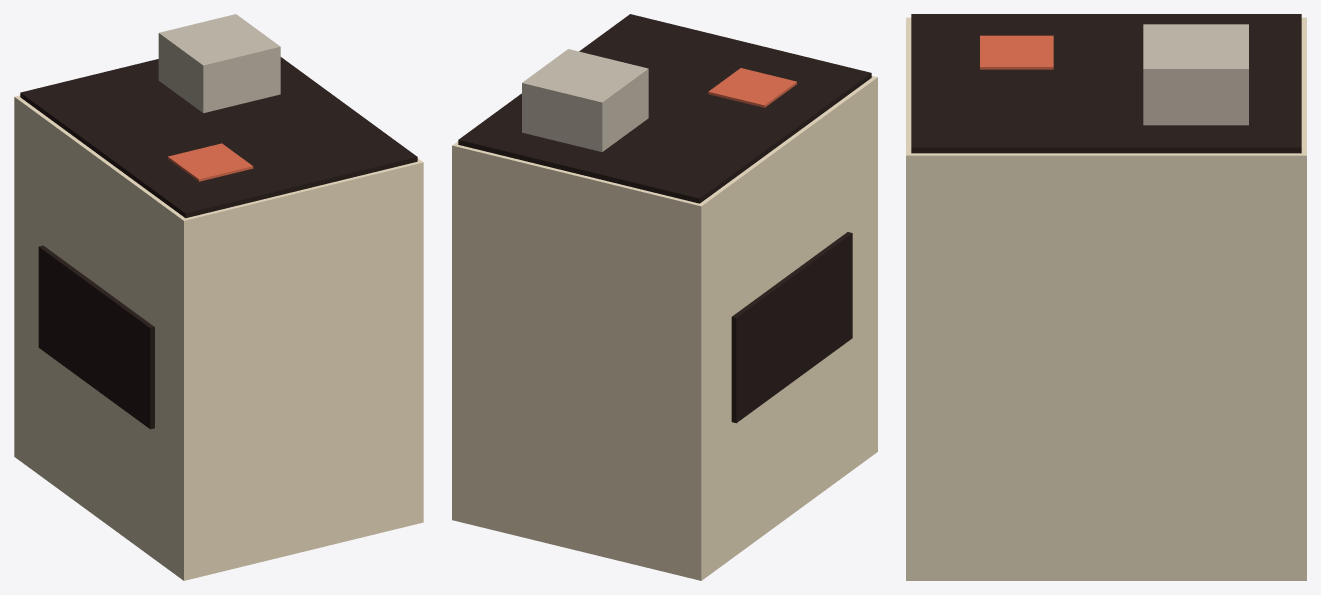
Rendered from stove.glb.
3 renders of one model, left to right at view 1: azimuth 30°, elevation 25°; view 2: azimuth 150°, elevation 25°; view 3: azimuth 270°, elevation 25°, orthographic. The views are drawn at different scales.
Visible parts, largest first — view 1: Box1, Box2, Box4, Box5, Box3; view 2: Box1, Box2, Box4, Box5, Box3; view 3: Box1, Box2, Box5, Box3.
Boxes of the visible parts, <box> form: Box1: <box>14,95,423,580</box>; Box2: <box>20,57,417,218</box>; Box4: <box>38,245,154,429</box>; Box5: <box>158,14,280,113</box>; Box3: <box>168,143,253,181</box>; Box1: <box>452,76,877,580</box>; Box2: <box>458,14,871,203</box>; Box4: <box>731,232,852,423</box>; Box5: <box>522,49,648,151</box>; Box3: <box>708,68,796,107</box>; Box1: <box>906,17,1306,580</box>; Box2: <box>911,14,1301,153</box>; Box5: <box>1143,24,1248,125</box>; Box3: <box>980,35,1053,69</box>.
Bounding box in the file's own units: 0.632 × 1.02 × 0.76.
